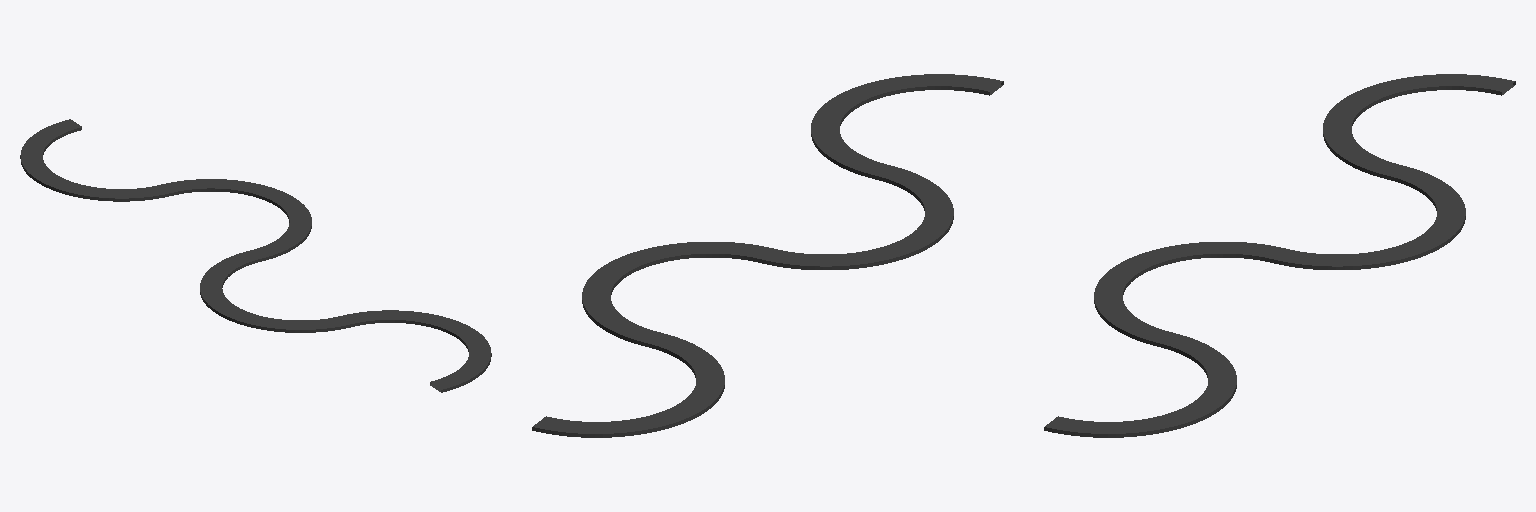
URDF robot description (double_s_wave_terrain):
<?xml version="1.0"?>
<robot name="double_s_wave_terrain">

  <!-- Base link (唯一的根节点) -->
  <link name="base_link">
    <inertial>
      <mass value="0.0"/>
      <inertia ixx="0.0" ixy="0.0" ixz="0.0" 
               iyy="0.0" iyz="0.0" izz="0.0"/>
    </inertial>
  </link>

  <!-- Segment 0: Uniform_Track, friction=0.80 -->
  <link name="segment_0_Uniform_Track">
    <visual>
      <origin xyz="0 0 0" rpy="0 0 0"/>
      <geometry>
        <mesh filename="double_s_wave_segment_Uniform_Track.obj" scale="1.0 1.0 1.0"/>
      </geometry>
      <material name="mat_0">
        <color rgba="0.3 0.3 0.3 1.0"/>
      </material>
    </visual>
    
    <collision>
      <origin xyz="0 0 0" rpy="0 0 0"/>
      <geometry>
        <mesh filename="double_s_wave_segment_Uniform_Track.obj" scale="1.0 1.0 1.0"/>
      </geometry>
      <contact>
        <lateral_friction value="0.8"/>
        <rolling_friction value="0.08000000000000002"/>
        <spinning_friction value="0.04000000000000001"/>
      </contact>
    </collision>
    
    <inertial>
      <mass value="0.0"/>
      <inertia ixx="0.0" ixy="0.0" ixz="0.0" 
               iyy="0.0" iyz="0.0" izz="0.0"/>
    </inertial>
  </link>
  
  <joint name="joint_0" type="fixed">
    <parent link="base_link"/>
    <child link="segment_0_Uniform_Track"/>
    <origin xyz="0 0 0" rpy="0 0 0"/>
  </joint>
  
</robot>

--- Render facts (derived) ---
The picture shows the robot from 3 angles, left to right: view 1: azimuth 30°, elevation 25°; view 2: azimuth 150°, elevation 25°; view 3: azimuth 330°, elevation 25°; orthographic projection.
Model double_s_wave_terrain with 2 links and 1 joints (1 fixed), rooted at base_link, posed every joint at zero.
Visible links, largest first — view 1: segment_0_Uniform_Track; view 2: segment_0_Uniform_Track; view 3: segment_0_Uniform_Track.
Link boxes in pixels (x1=…): segment_0_Uniform_Track: x1=20, y1=119, x2=491, y2=392; segment_0_Uniform_Track: x1=532, y1=74, x2=1003, y2=437; segment_0_Uniform_Track: x1=1044, y1=74, x2=1515, y2=437.
Size in the robot's own frame: 17.99 by 66 by 0.3 metres.
Meshes: 1 distinct files referenced, 1 mesh visuals loaded (1 OBJ).
